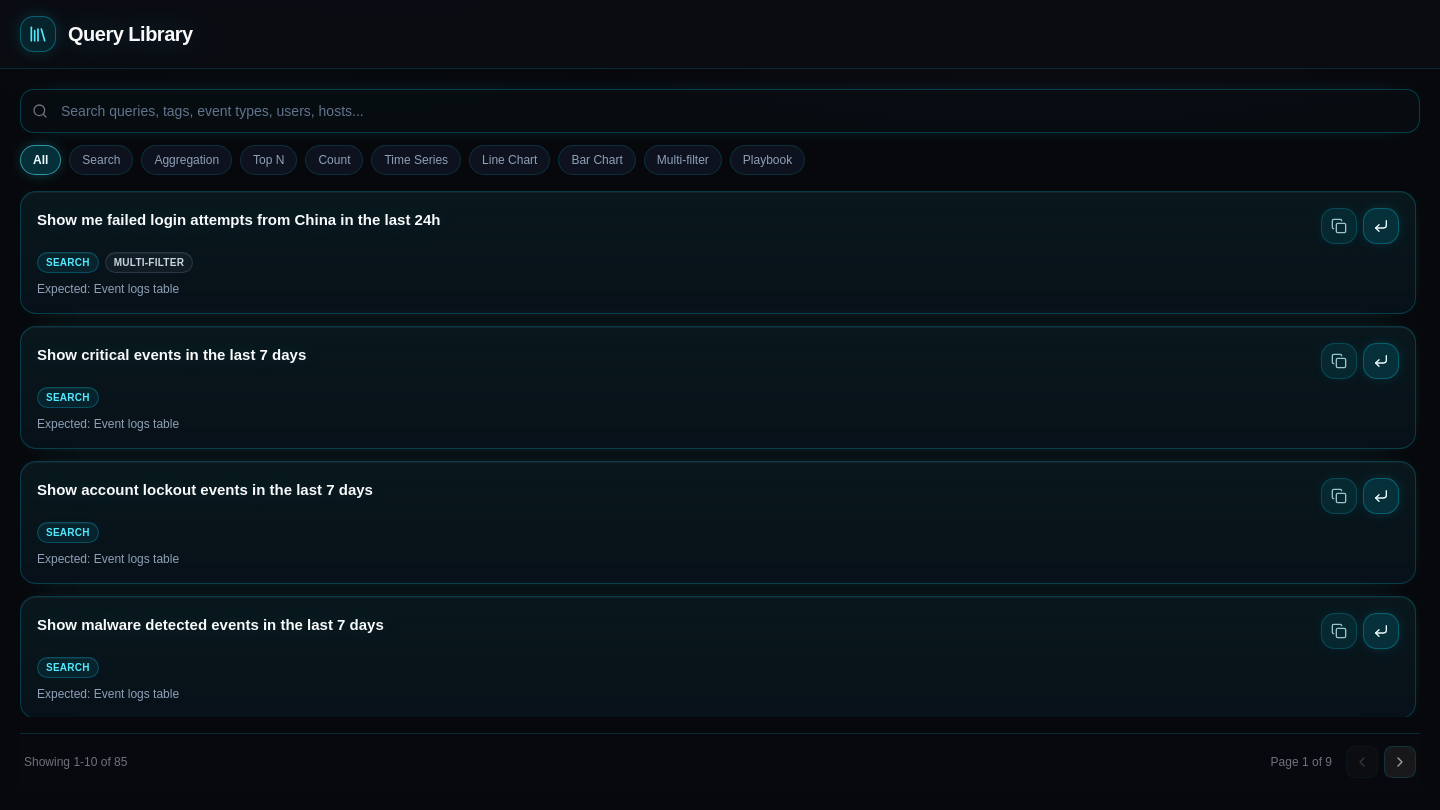
QueryLibraryPage › paginates query cards ten per page
Expected: the text "Show me failed login attempts from China in the last 24h" is shown, x1=37 y1=208 x2=440 y2=232
Expected: the text "Show critical events in the last 7 days" is shown, x1=37 y1=343 x2=306 y2=367
Click the button named "Next page" at (1400, 762), box x1=1384 y1=746 x2=1416 y2=778
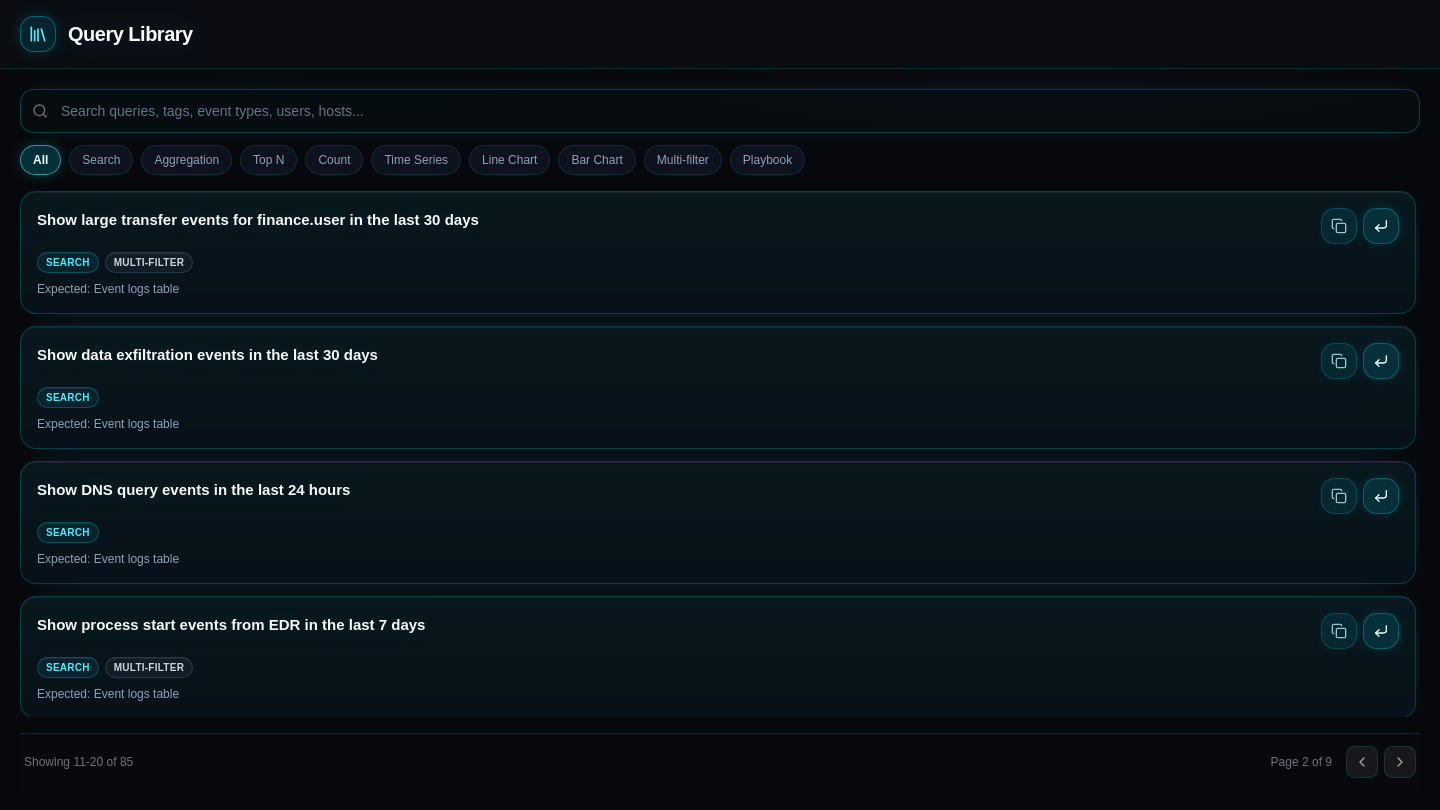
Now the text "Show me failed login attempts from China" is gone
